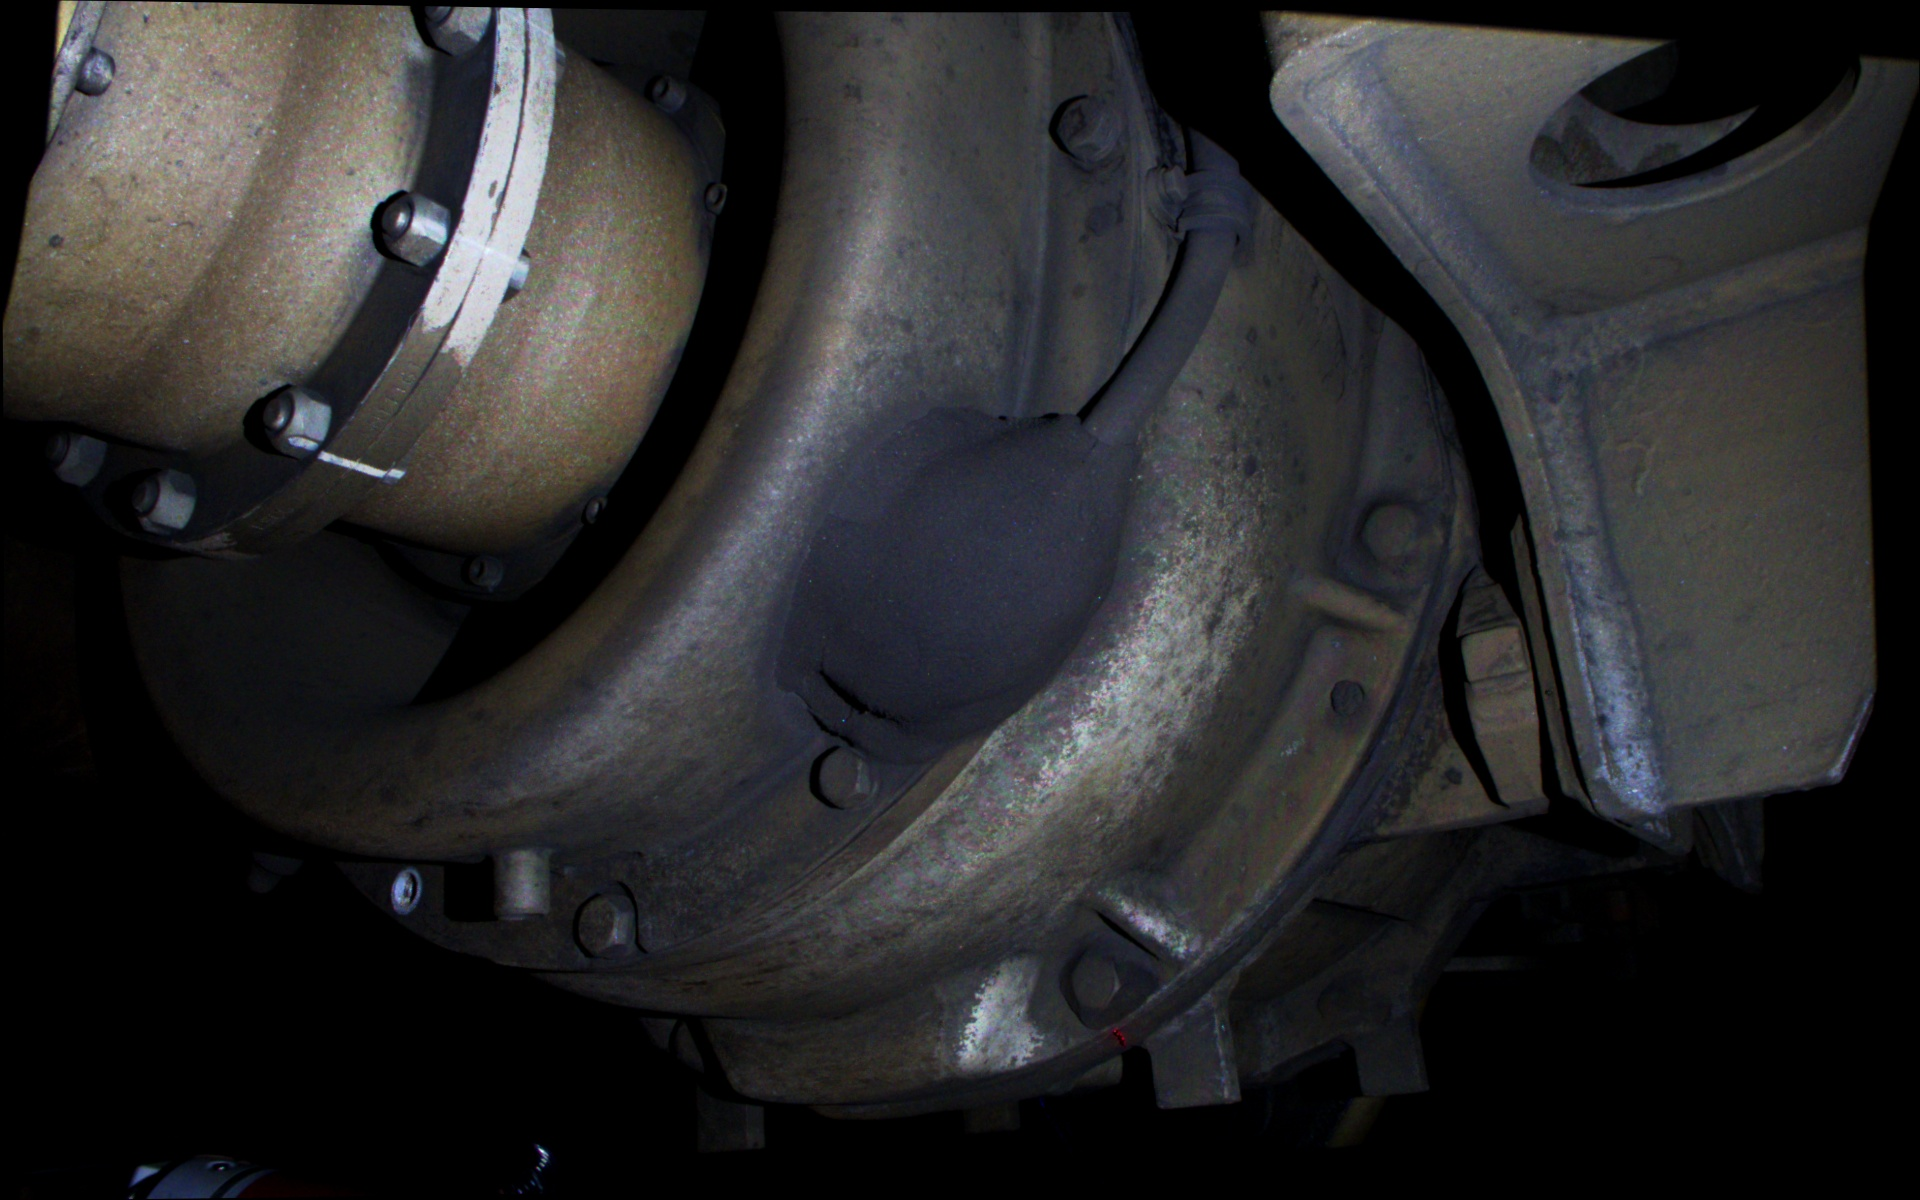bolthead1: (375, 868, 433, 917)
bolthead2: (568, 889, 629, 957)
bolthead3: (809, 744, 875, 813)
bolthead4: (1049, 93, 1122, 163)
bolthead5: (1060, 951, 1127, 1015)
bolthead6: (1357, 495, 1427, 574)
